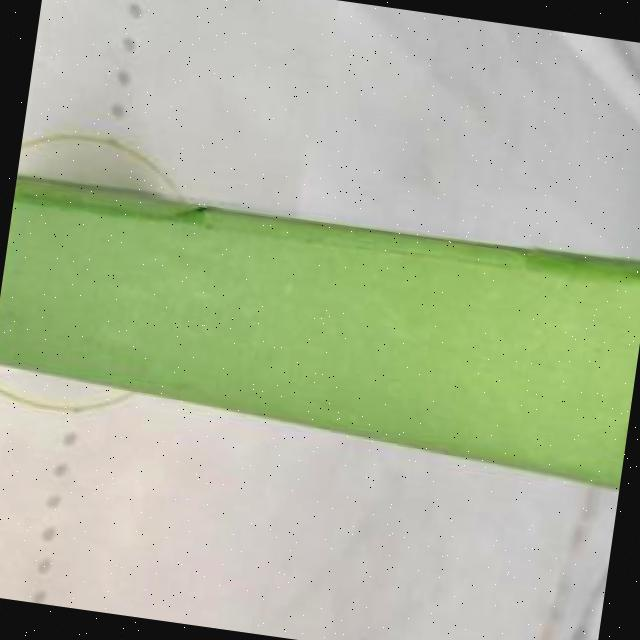greenbox: (0, 161, 640, 498)
